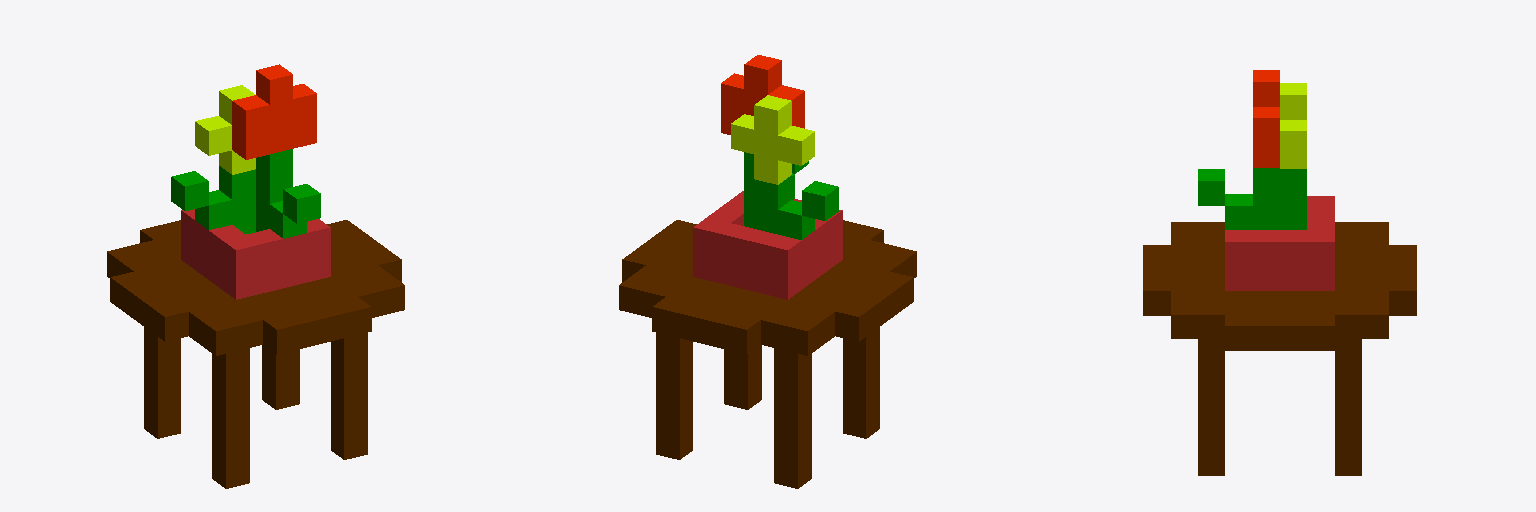
3 views of the same model, side by side, from view 1: azimuth 30°, elevation 25°; view 2: azimuth 150°, elevation 25°; view 3: azimuth 270°, elevation 25° (orthographic).
Parts seen in each view (by area): view 1: Table_w_flowers; view 2: Table_w_flowers; view 3: Table_w_flowers.
Part boxes in pixels (left/top/right/bottom): Table_w_flowers: left=107, top=64, right=404, bottom=488; Table_w_flowers: left=619, top=55, right=916, bottom=488; Table_w_flowers: left=1143, top=70, right=1416, bottom=475.
Bounding box in the file's own units: 10 × 15 × 10.
Materials: 1 (1 with a texture image).